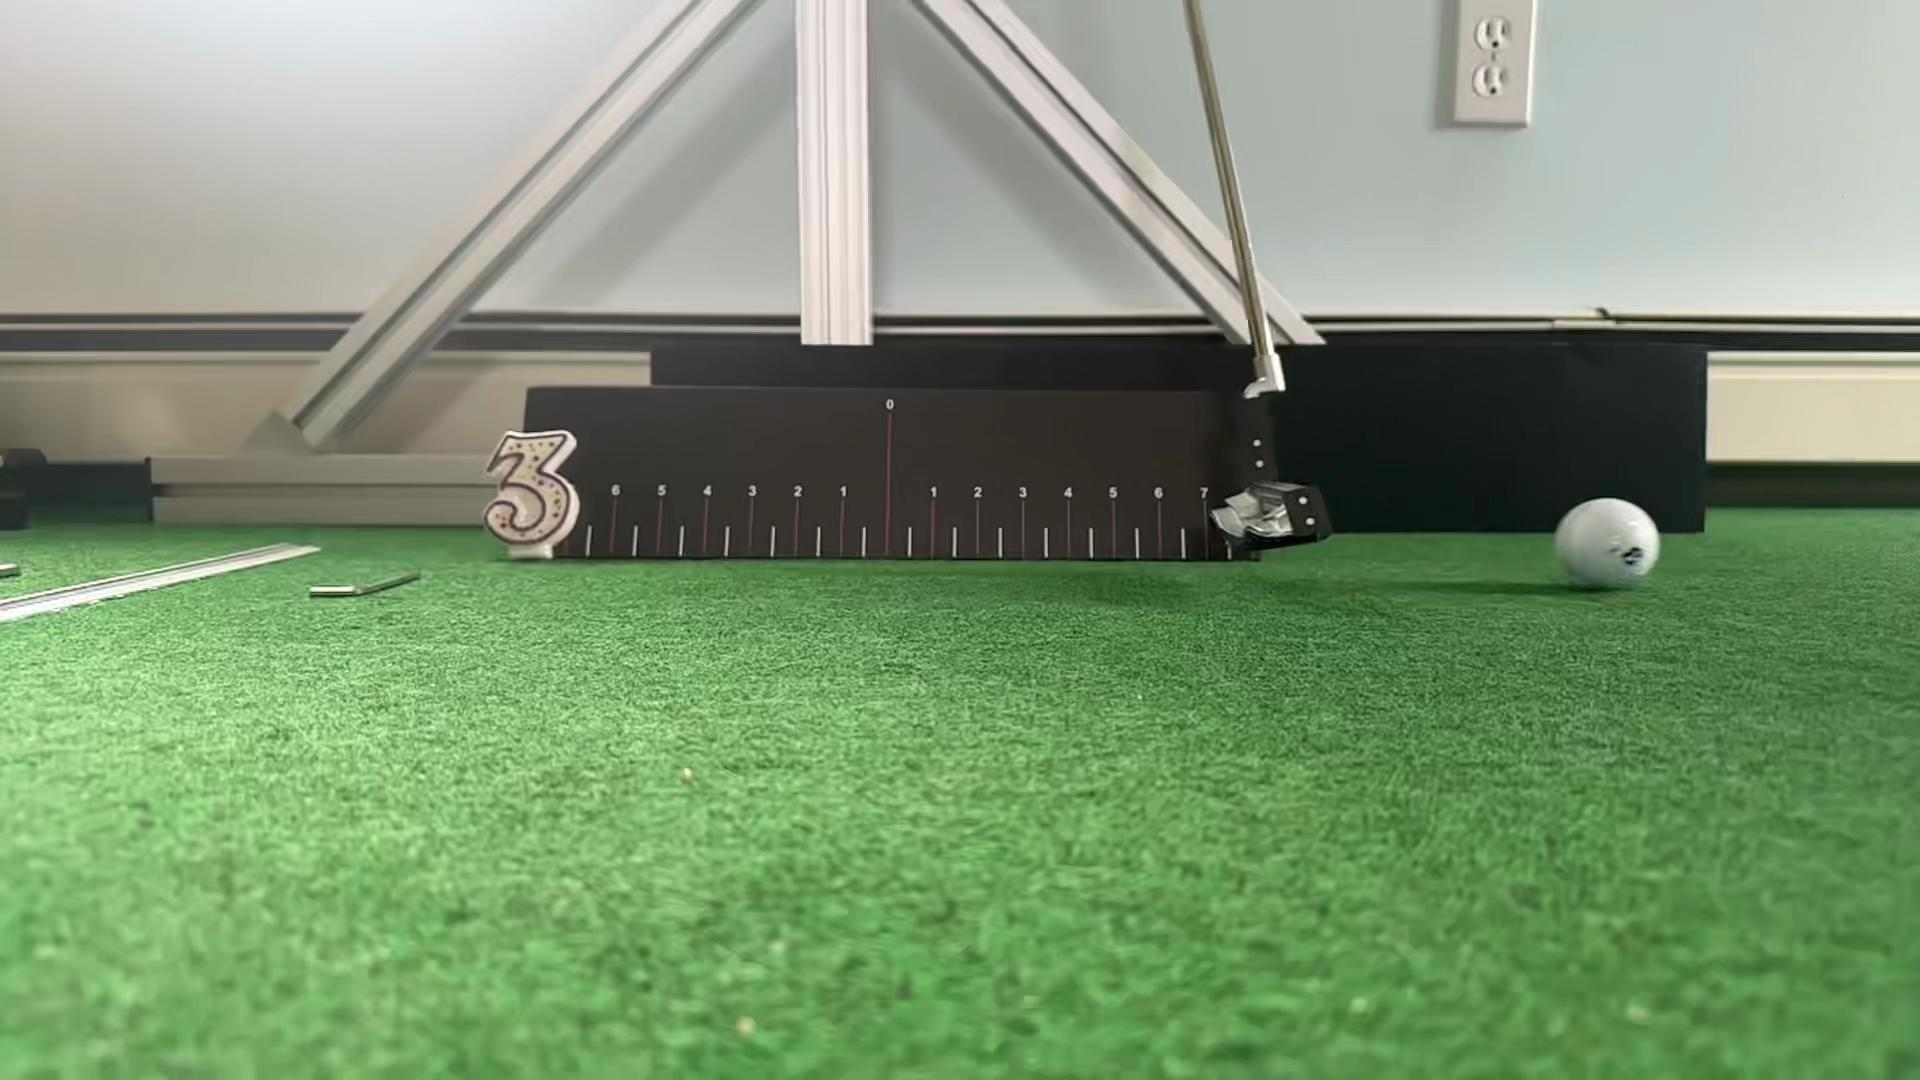golfball: (1557, 499, 1660, 590)
